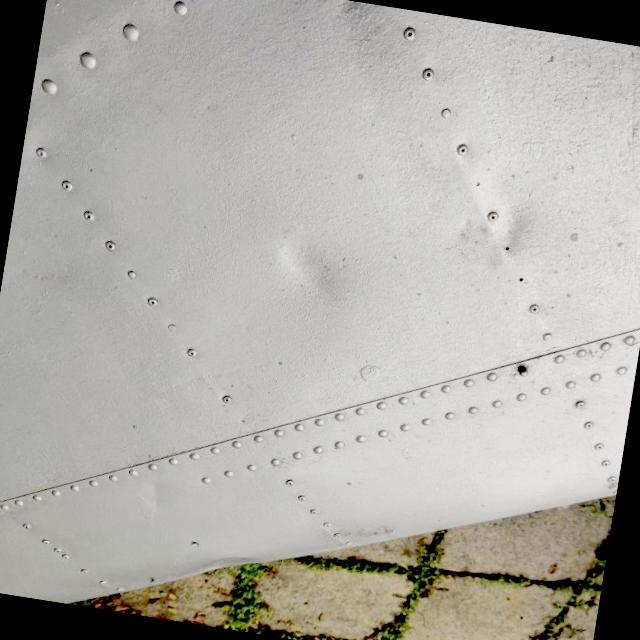dent: (226, 202, 374, 344), (432, 159, 564, 293)
